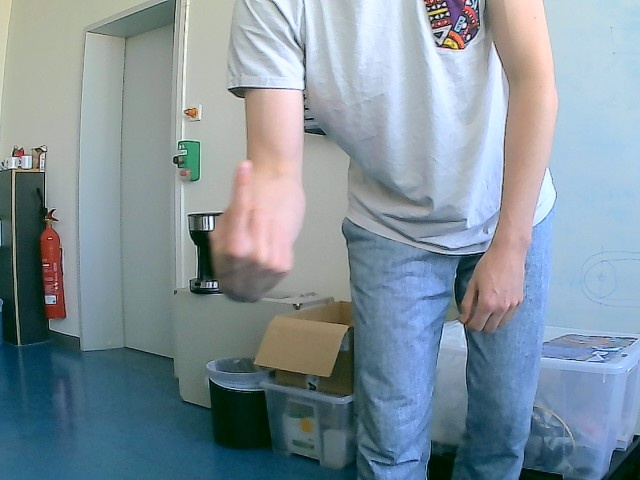no_gesture: (458, 246, 528, 336)
up: (207, 159, 297, 303)
